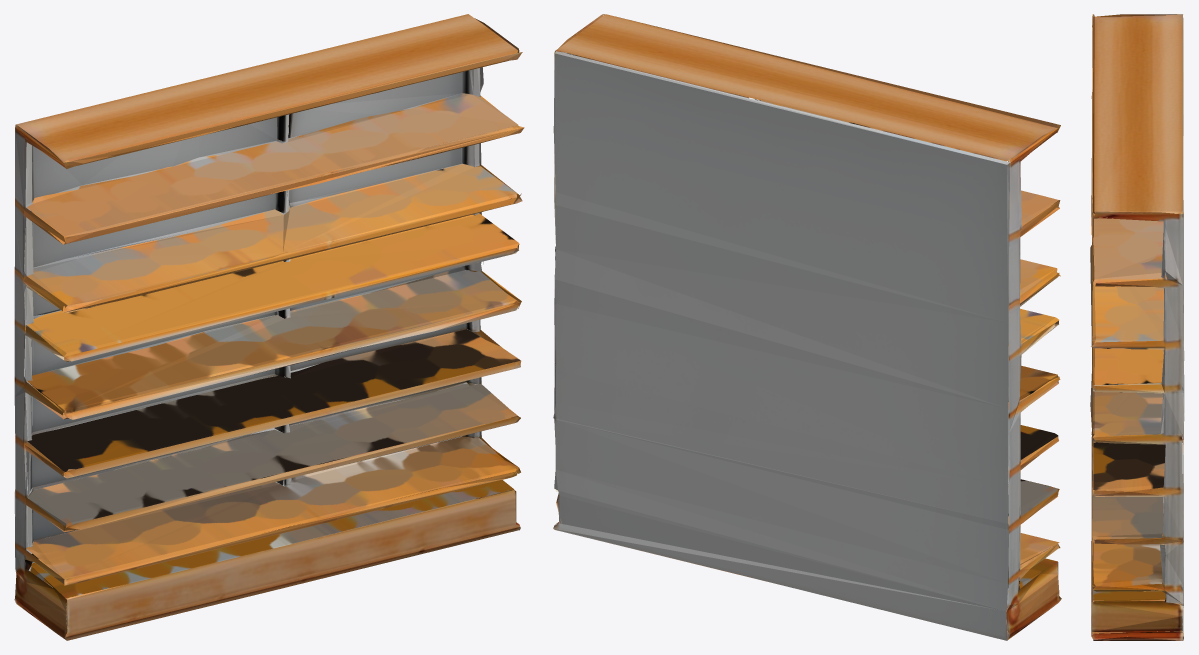
Rendered from shelf-hy3d.glb.
3 renders of one model, left to right at view 1: azimuth 30°, elevation 25°; view 2: azimuth 150°, elevation 25°; view 3: azimuth 270°, elevation 25°, orthographic. The views are drawn at different scales.
Parts seen in each view (by area): view 1: cabinet6-hy3d-1K; view 2: cabinet6-hy3d-1K; view 3: cabinet6-hy3d-1K.
Boxes of the visible parts, box(x1,y1,x2,y2) form: cabinet6-hy3d-1K: box(14, 14, 524, 640); cabinet6-hy3d-1K: box(553, 14, 1061, 640); cabinet6-hy3d-1K: box(1090, 14, 1184, 640).
Bounding box in the file's own units: 2.01 × 2 × 0.3982.
1 material, 1 textured.
